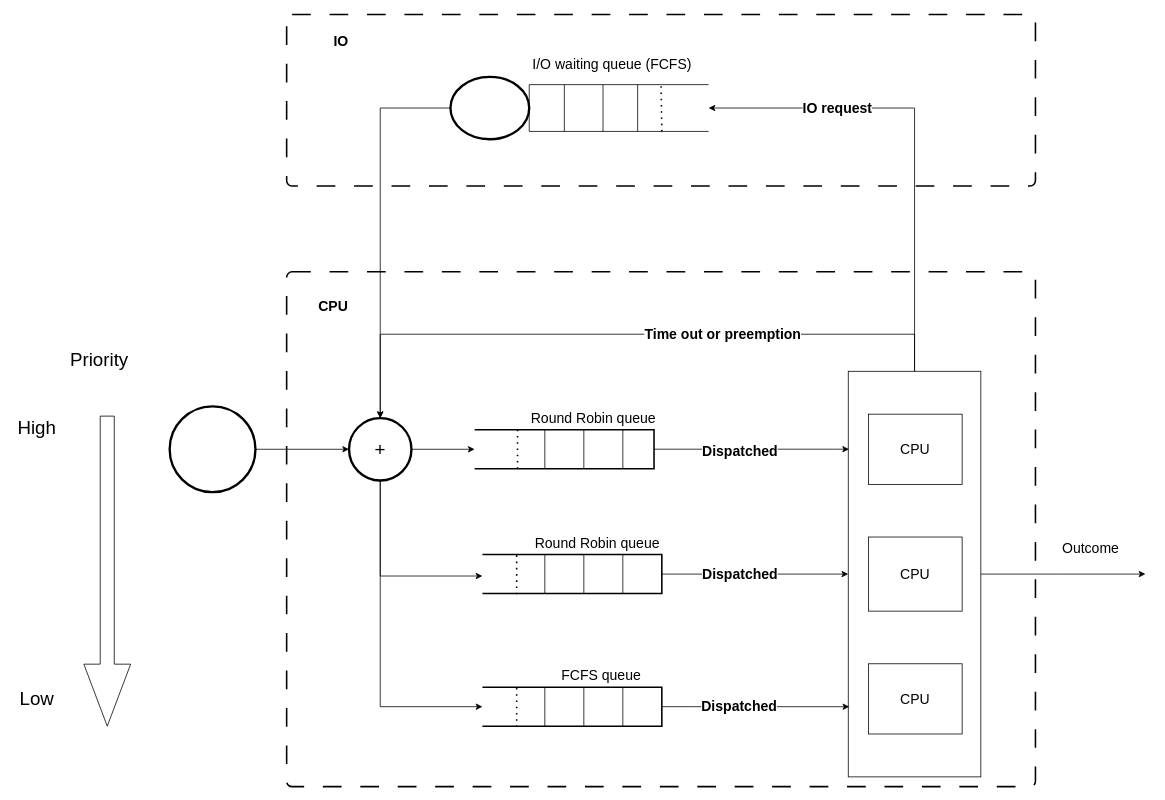
This 1165x800 diagram has some shape labels left out. Each missing label, with the centre of its shape:
"I/O" belongs at [489,107].
"Process" belongs at [212,449].
